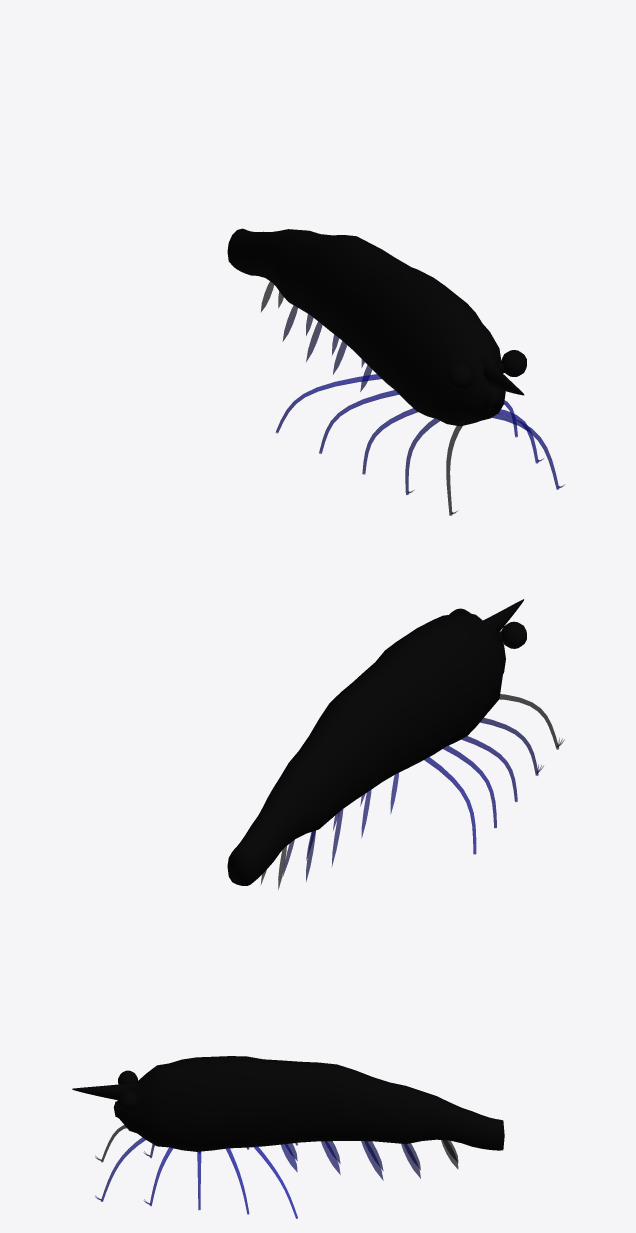
Rendered from cleaner-shrimp.glb.
3 views of the same model, one above another, from view 1: azimuth 30°, elevation 25°; view 2: azimuth 150°, elevation 25°; view 3: azimuth 270°, elevation 25° (orthographic). The views are drawn at different scales.
Visible parts, largest first — view 1: cleaner_body, cleaner_rostrum; view 2: cleaner_body, cleaner_eyeL, cleaner_leg4L; view 3: cleaner_body, cleaner_rostrum.
Part boxes in pixels (<box>): cleaner_body: <box>227,228,505,425</box>; cleaner_rostrum: <box>478,355,524,395</box>; cleaner_body: <box>227,611,505,885</box>; cleaner_eyeL: <box>496,621,526,648</box>; cleaner_leg4L: <box>424,757,476,854</box>; cleaner_body: <box>113,1056,504,1151</box>; cleaner_rostrum: <box>72,1082,136,1100</box>.
Size of the model in its own units: 0.6018 by 0.4663 by 1.41.
